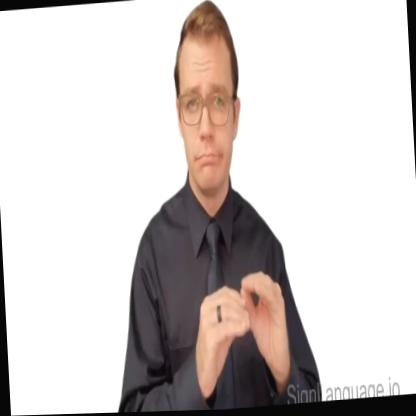Fix: (170, 235, 289, 405)
